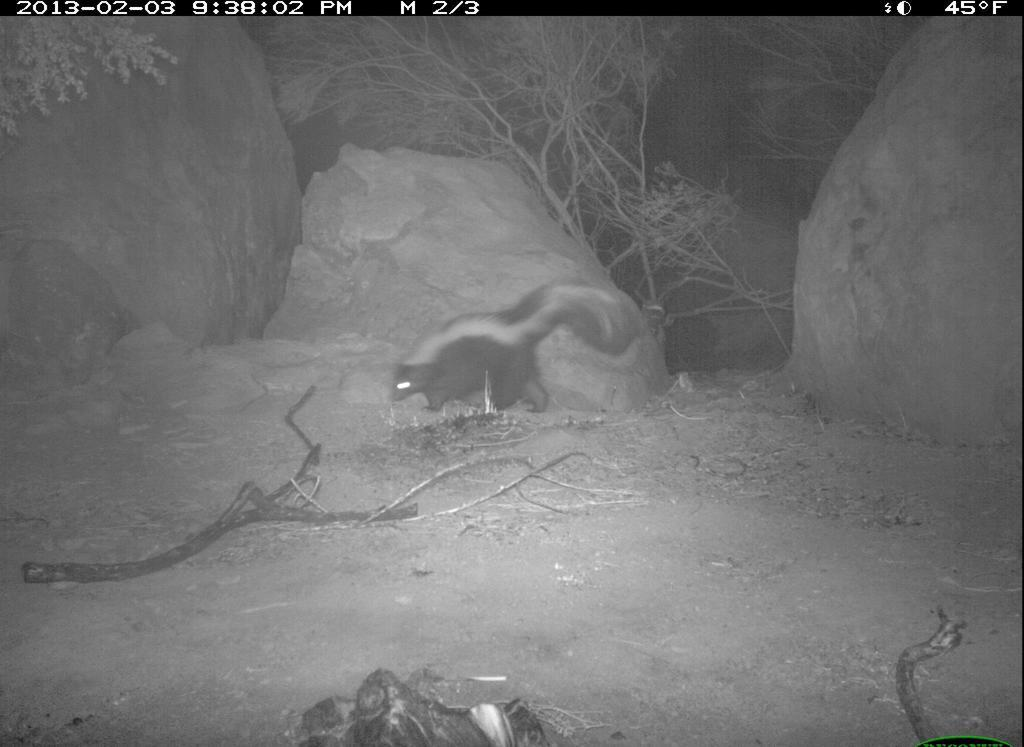skunk: (383, 273, 655, 427)
